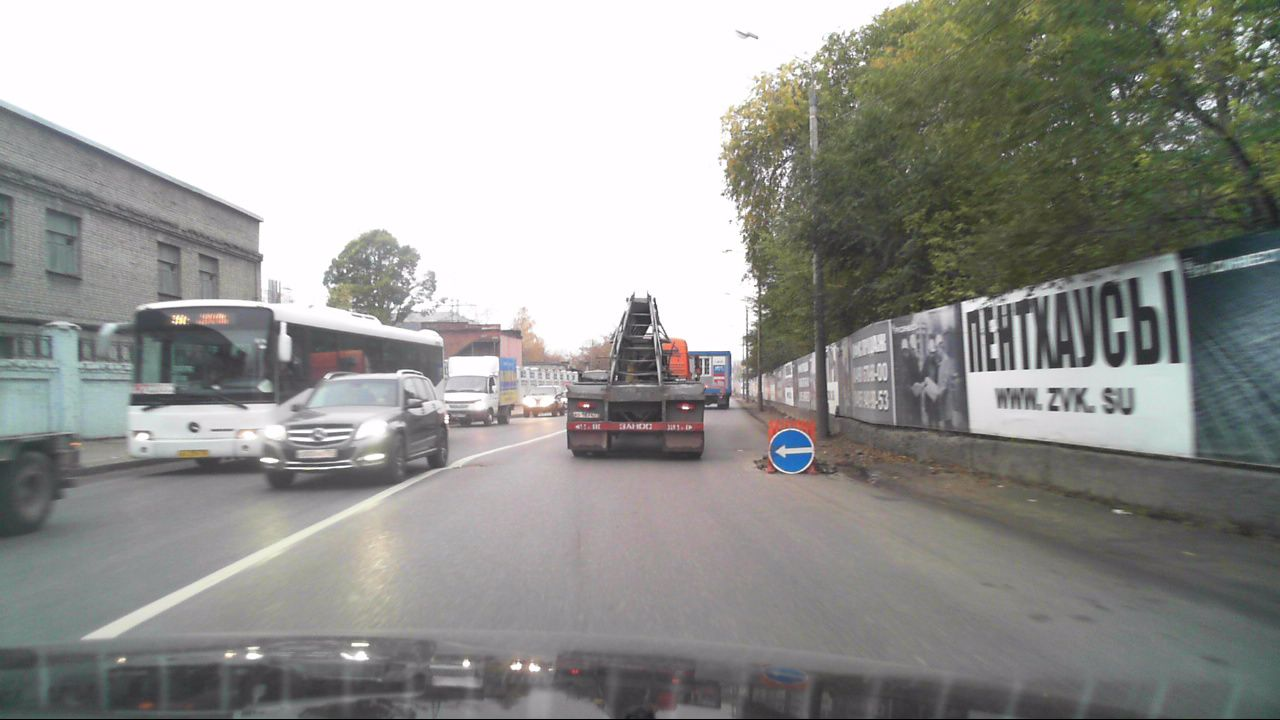Turn Left: (768, 428, 814, 474)
